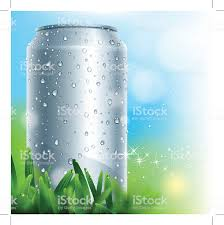can: (24, 24, 129, 208)
